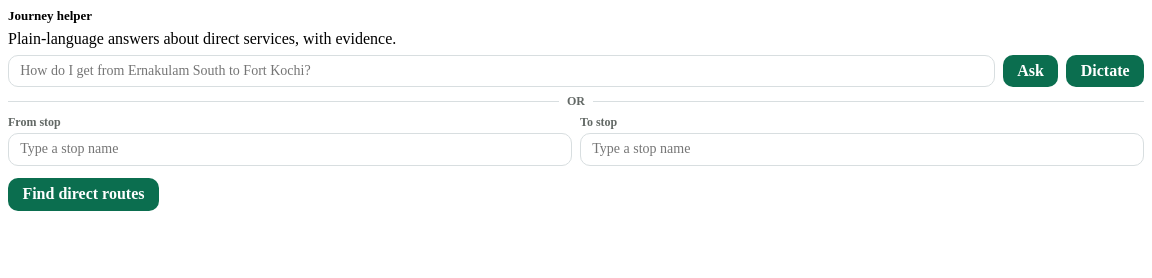
Test: JourneyPanel › reports helper outages in plain language
Type "How do I get there?" into the field named "your journey question".
click(501, 71); type("How do I get there?")  # box [8,55,995,87]
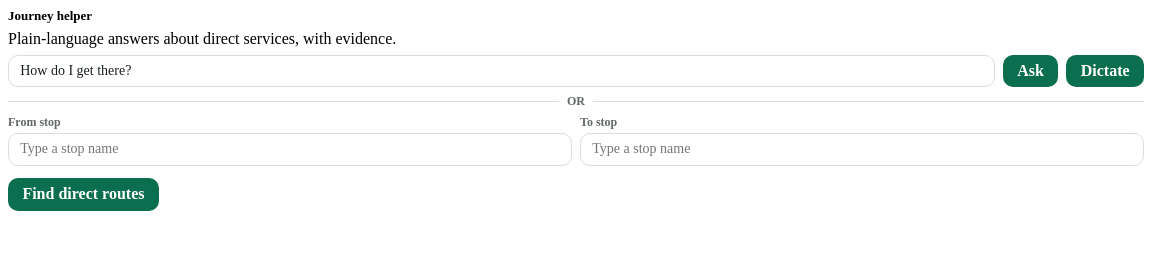
Click the button "Ask".
click(1031, 71)  # box [1003,55,1058,87]
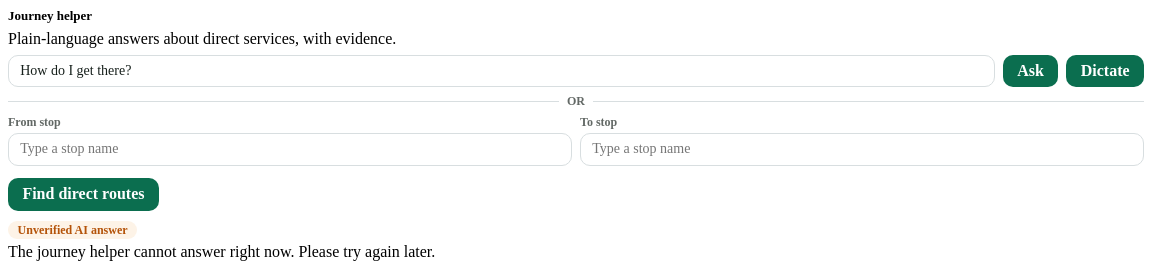
Result: the text "The journey helper cannot answer right now. Please try again later." is shown at [8,243,435,260]
